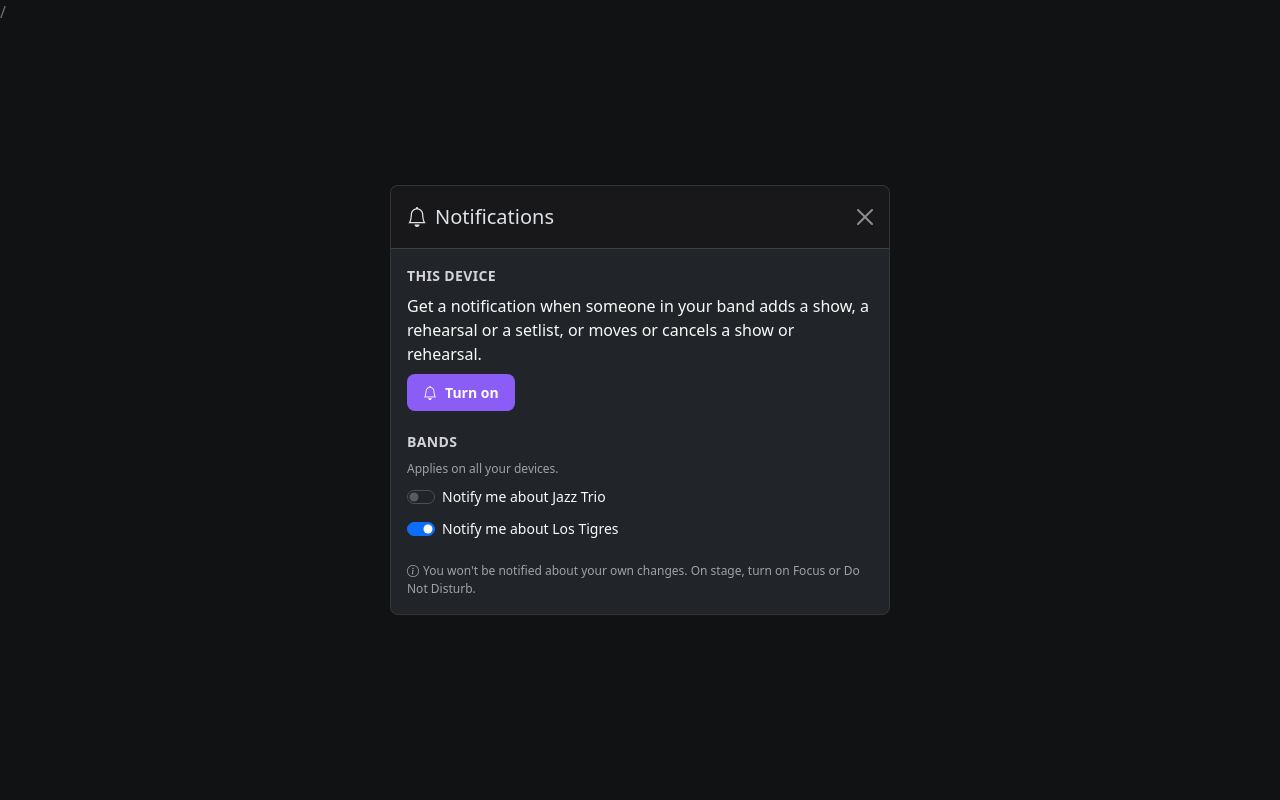
Test: NotificationSettingsModal › a failed subscribe keeps Turn on with an inline error
Click the button "Turn on" at point(461, 392), box top-left (407, 374), bottom-right (515, 411)
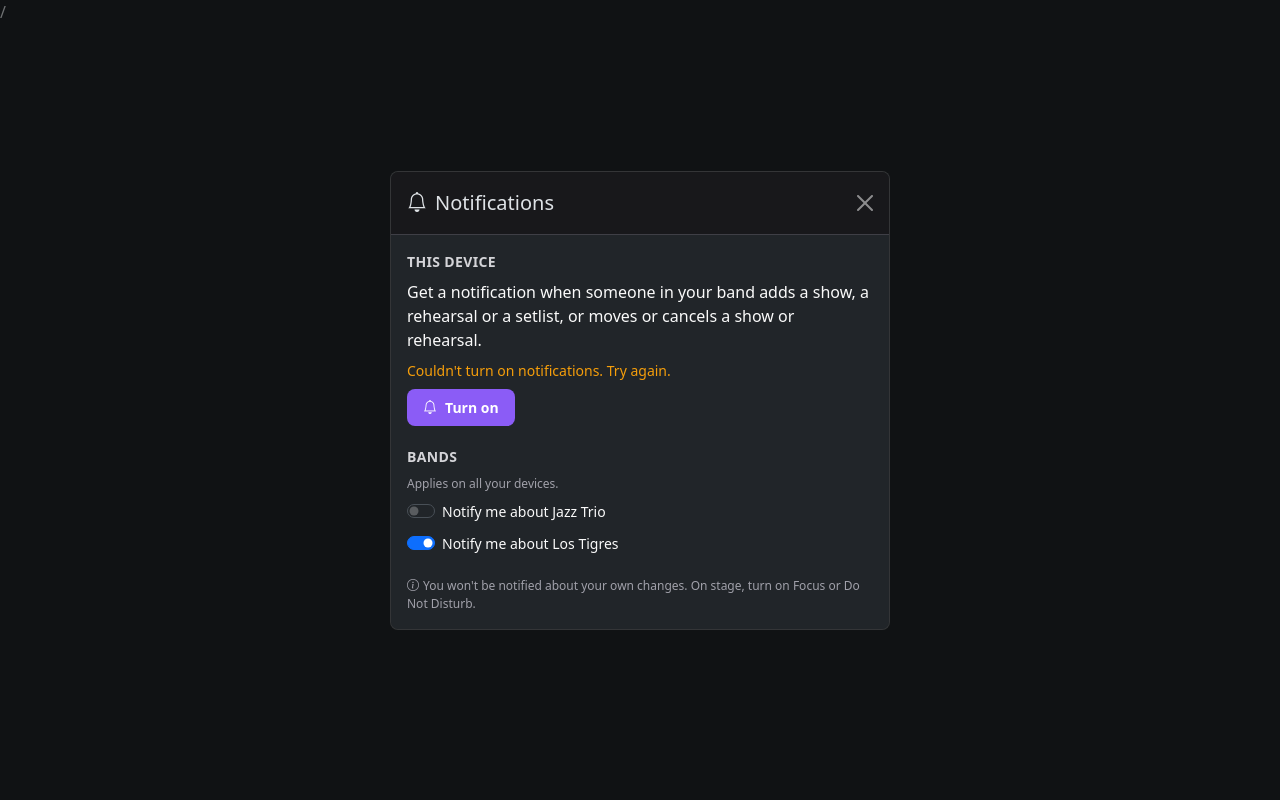
Expected: the button "Turn on" is shown, top-left (407, 388), bottom-right (515, 426)
Now the text "Couldn't turn on notifications. Try again." is shown, box top-left (407, 360), bottom-right (671, 380)
